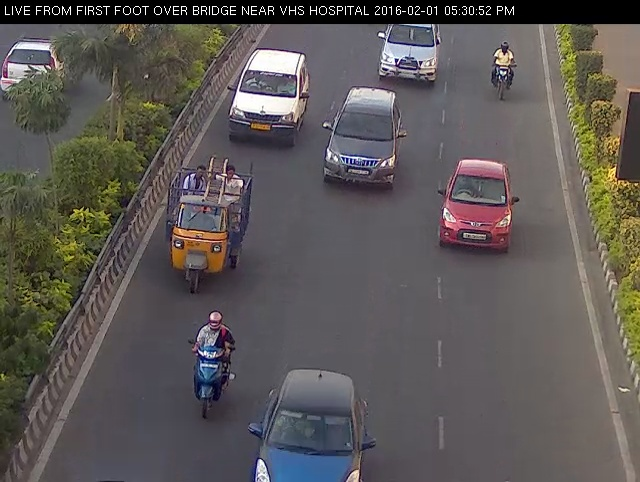Auto: (153, 155, 260, 300)
Car: (245, 360, 379, 482), (427, 151, 527, 267), (322, 75, 410, 204), (225, 37, 309, 149), (364, 13, 448, 91)
Person: (185, 307, 240, 428), (490, 27, 524, 108)
